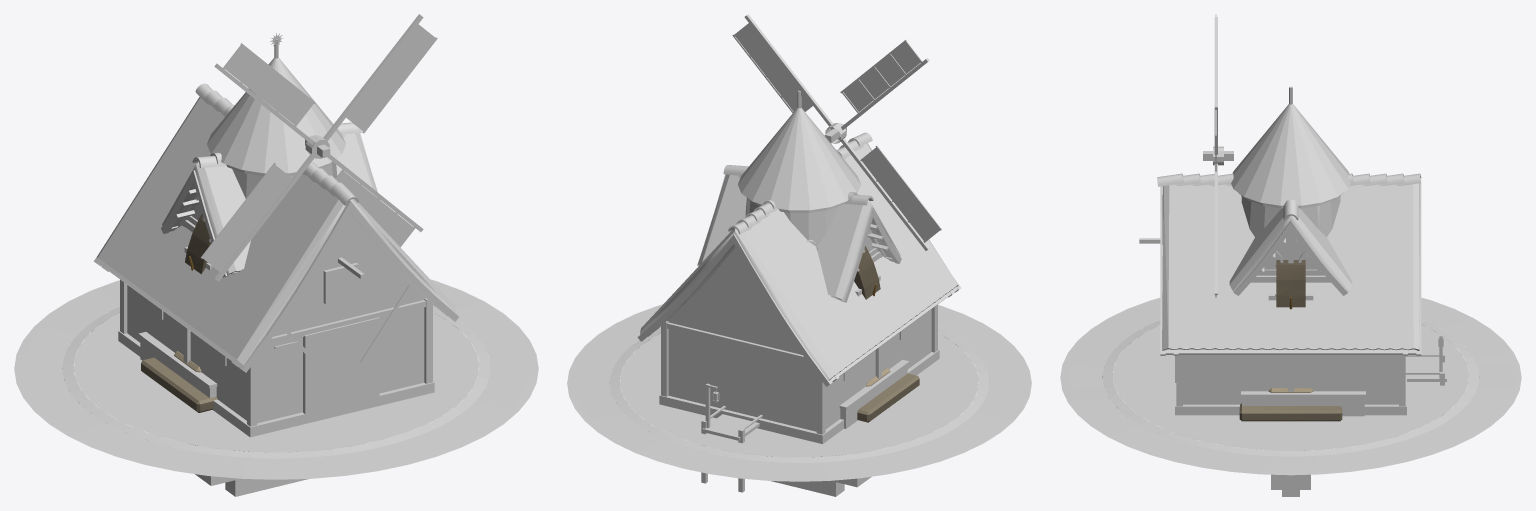
Rendered from arcadia.glb.
3 renders of one model, left to right at view 1: azimuth 30°, elevation 25°; view 2: azimuth 150°, elevation 25°; view 3: azimuth 270°, elevation 25°, orthographic. The views are drawn at different scales.
Visible parts, largest first — view 1: a_pad, a_barn, a_barn__L1, a_windmill, a_cottage__L1, a_gate, a_cottage, a_fold, a_ringsea; view 2: a_pad, a_barn, a_windmill, a_barn__L1, a_cottage__L1, a_cottage, a_gate, a_jetty, a_fold, a_ringsea; view 3: a_pad, a_barn__L1, a_barn, a_windmill, a_cottage, a_gate, a_cottage__L1, a_fold, a_jetty, a_ringgate.
Part boxes in pixels (x1=…): a_pad: x1=14, y1=279, x2=538, y2=479; a_barn: x1=93, y1=83, x2=458, y2=452; a_barn__L1: x1=96, y1=97, x2=455, y2=365; a_windmill: x1=201, y1=14, x2=437, y2=281; a_cottage__L1: x1=162, y1=133, x2=380, y2=273; a_gate: x1=141, y1=213, x2=217, y2=412; a_cottage: x1=161, y1=122, x2=370, y2=277; a_fold: x1=138, y1=332, x2=217, y2=398; a_ringsea: x1=225, y1=478, x2=308, y2=496; a_pad: x1=567, y1=304, x2=1031, y2=481; a_barn: x1=637, y1=132, x2=961, y2=457; a_windmill: x1=732, y1=14, x2=941, y2=250; a_barn__L1: x1=640, y1=143, x2=957, y2=378; a_cottage__L1: x1=698, y1=174, x2=899, y2=298; a_cottage: x1=697, y1=165, x2=901, y2=302; a_gate: x1=854, y1=246, x2=919, y2=422; a_jetty: x1=701, y1=383, x2=766, y2=492; a_fold: x1=839, y1=359, x2=909, y2=428; a_ringsea: x1=771, y1=481, x2=844, y2=496; a_pad: x1=1060, y1=297, x2=1521, y2=475; a_barn__L1: x1=1162, y1=183, x2=1419, y2=350; a_barn: x1=1139, y1=173, x2=1421, y2=439; a_windmill: x1=1203, y1=14, x2=1350, y2=297; a_cottage: x1=1233, y1=199, x2=1348, y2=295; a_gate: x1=1239, y1=260, x2=1342, y2=421; a_cottage__L1: x1=1229, y1=208, x2=1352, y2=290; a_fold: x1=1241, y1=391, x2=1365, y2=416; a_jetty: x1=1405, y1=331, x2=1446, y2=415; a_ringgate: x1=1268, y1=294, x2=1313, y2=489.
Size of the model in its own units: 20.7 by 21.28 by 20.7.
